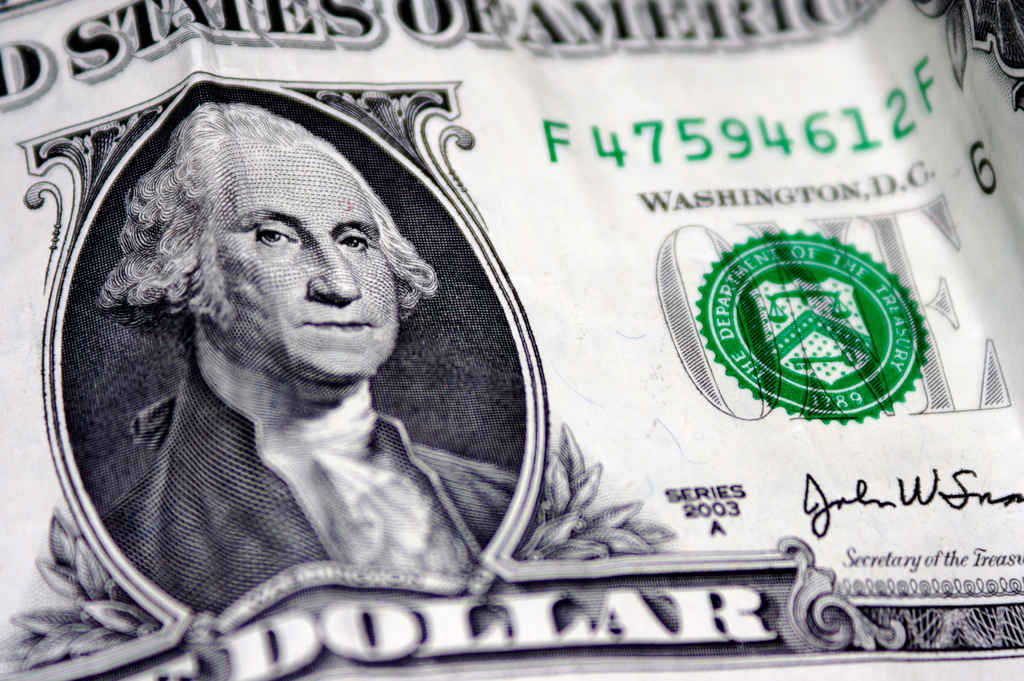face: (204, 140, 398, 385)
